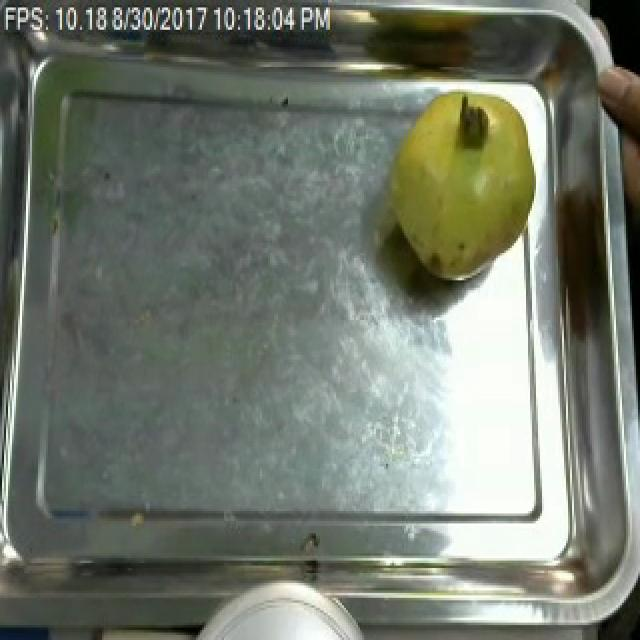fruit: (378, 77, 546, 290)
